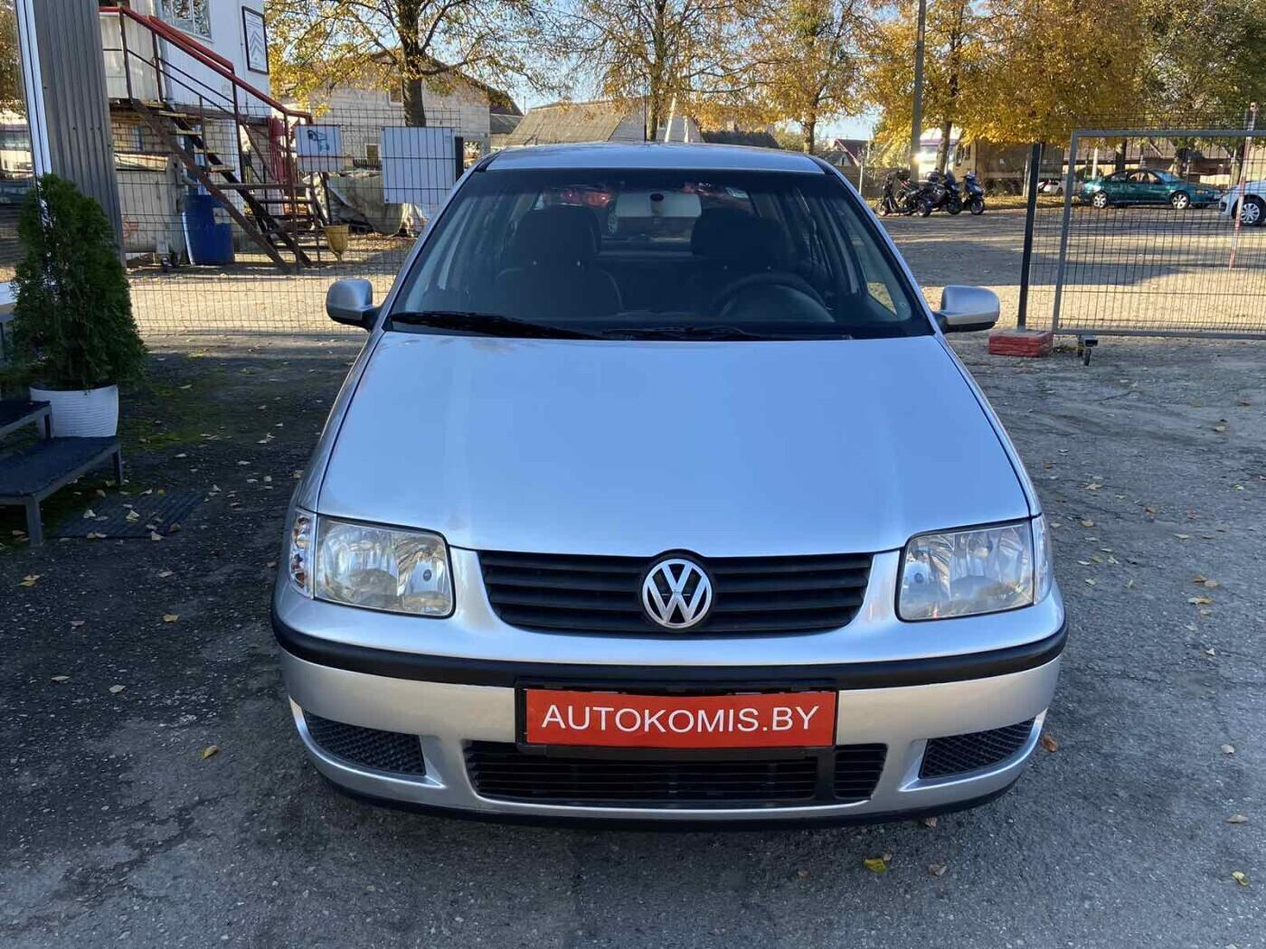Polo_2000-2002: (244, 132, 1082, 851)
